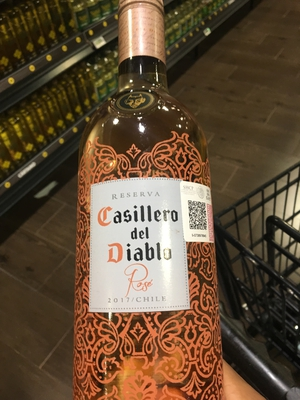casillero del diablo rose: (59, 14, 232, 400)
